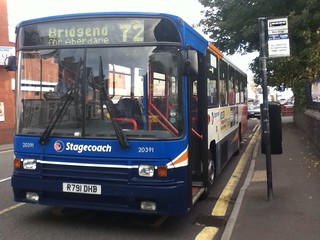bus: (11, 11, 248, 218)
